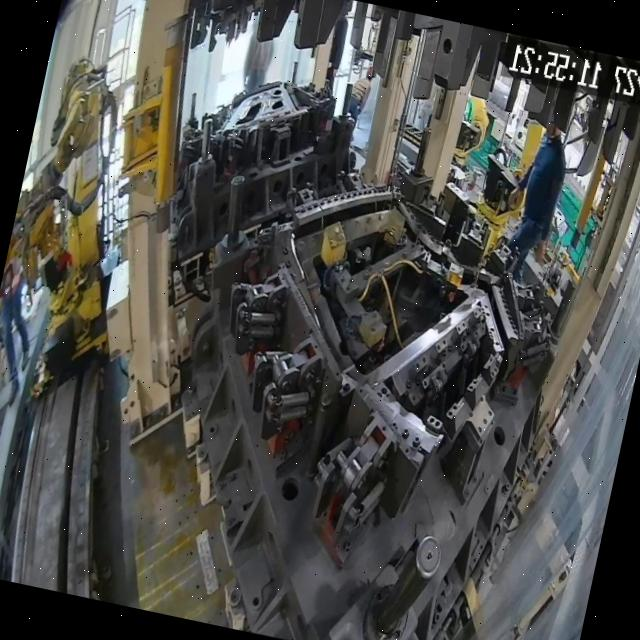Person: (492, 116, 576, 290), (0, 283, 42, 410), (234, 34, 278, 102), (321, 10, 352, 96), (340, 71, 374, 145)
